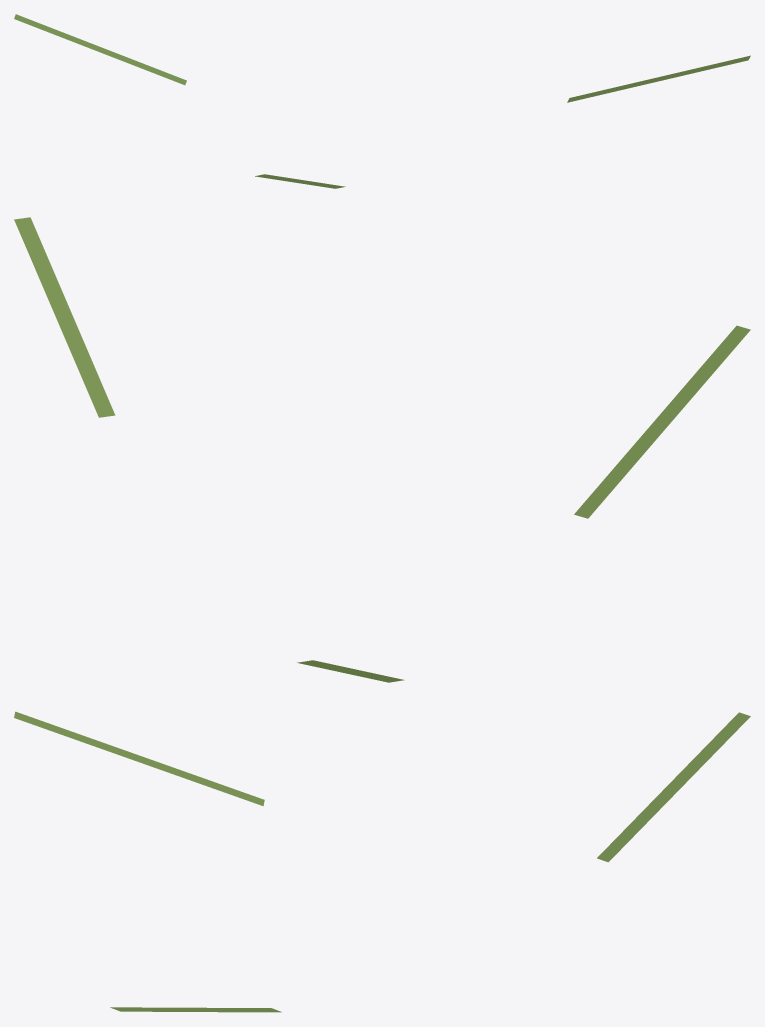
Rendered from floor_lod2.glb.
3 views of the same model, one above another, from view 1: azimuth 30°, elevation 25°; view 2: azimuth 150°, elevation 25°; view 3: azimuth 270°, elevation 25° (orthographic). The views are drawn at different scales.
Parts seen in each view (by area): view 1: Leaves; view 2: Leaves; view 3: Leaves.
Part boxes in pixels (left/top/right/bottom): Leaves: left=14, top=14, right=750, bottom=188; Leaves: left=14, top=217, right=750, bottom=682; Leaves: left=14, top=711, right=750, bottom=1012.
Size of the model in its own units: 0.4138 by 0.061 by 0.4044.
